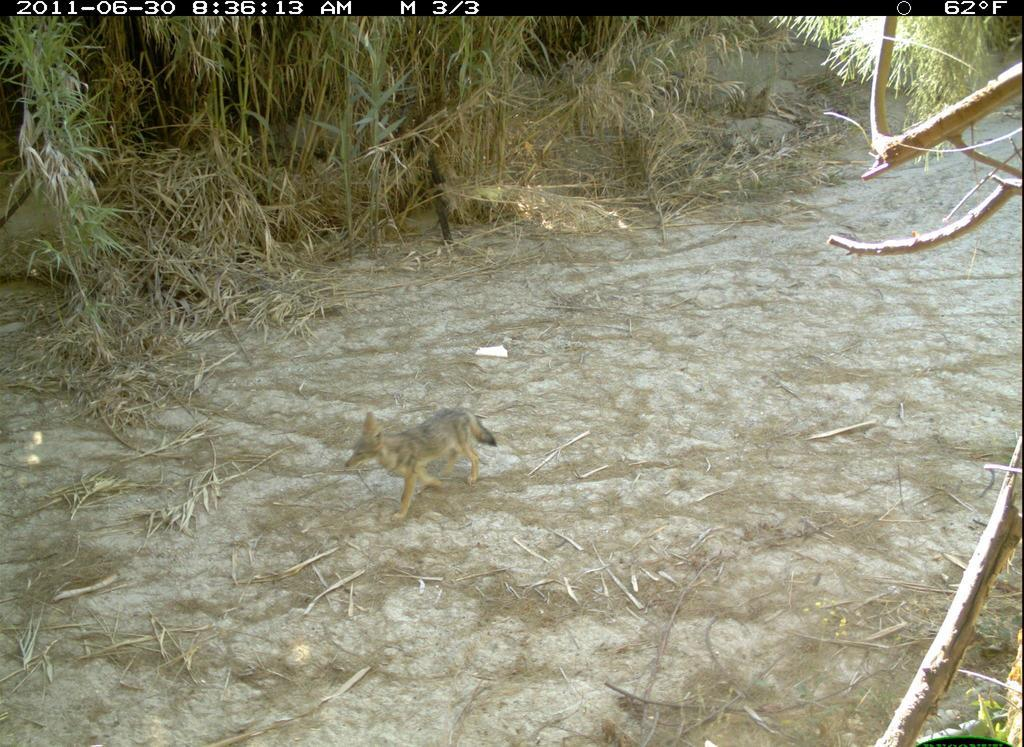coyote: (337, 398, 507, 530)
